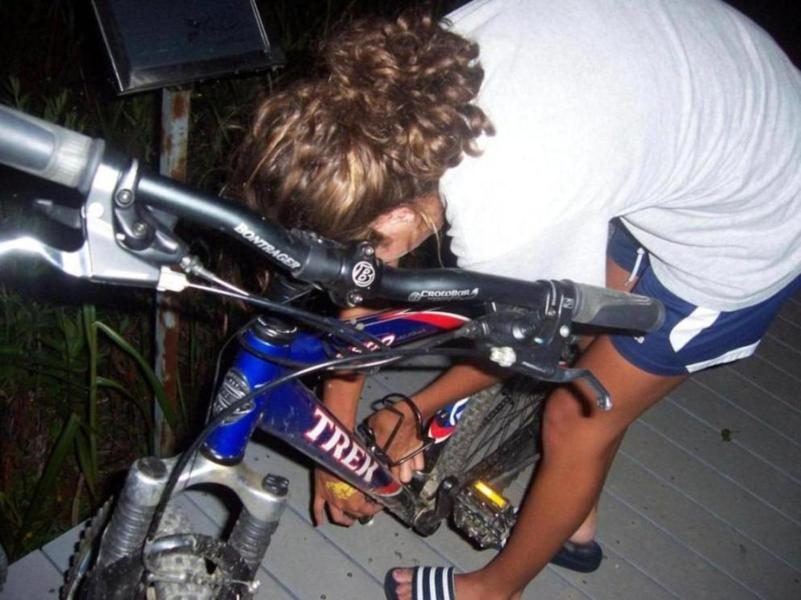person: (234, 3, 801, 599)
